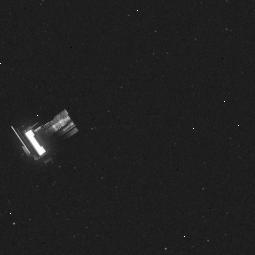soho: (5, 82, 82, 172)
